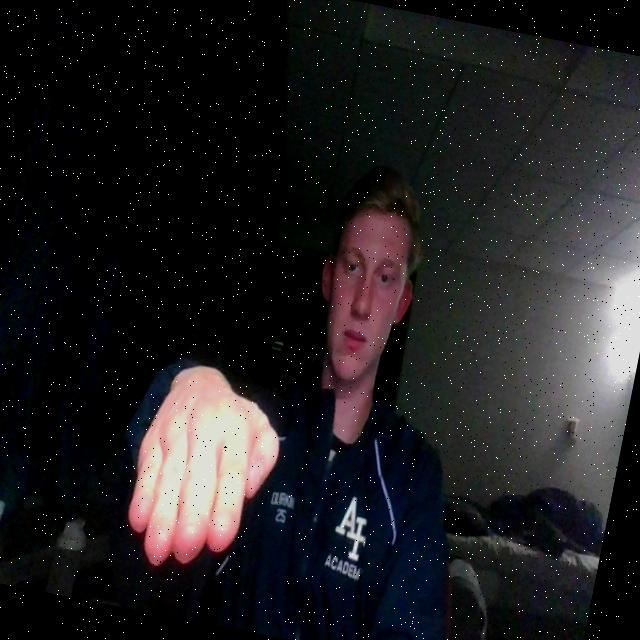paper: (104, 354, 304, 597)
